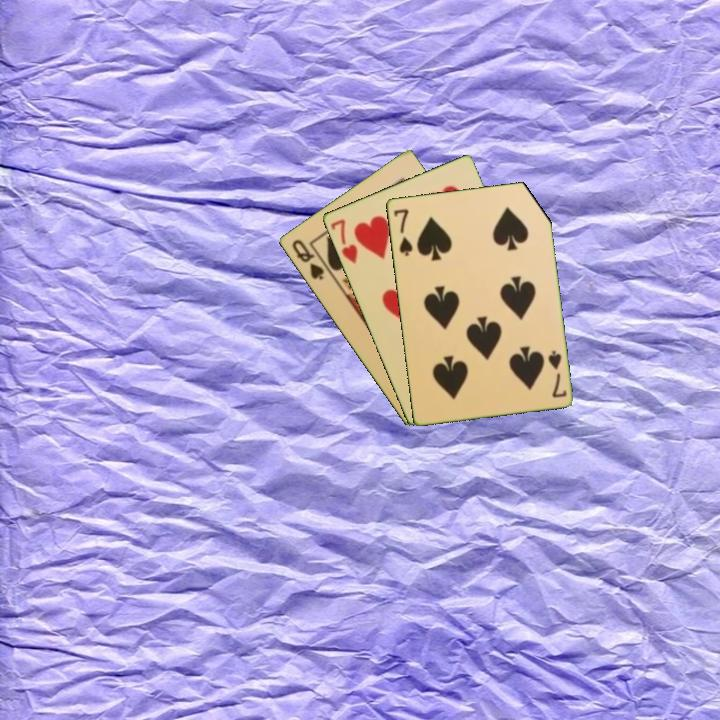7h: (326, 215, 360, 267)
7s: (390, 205, 415, 259), (544, 347, 569, 400)
Qs: (288, 236, 327, 283)
